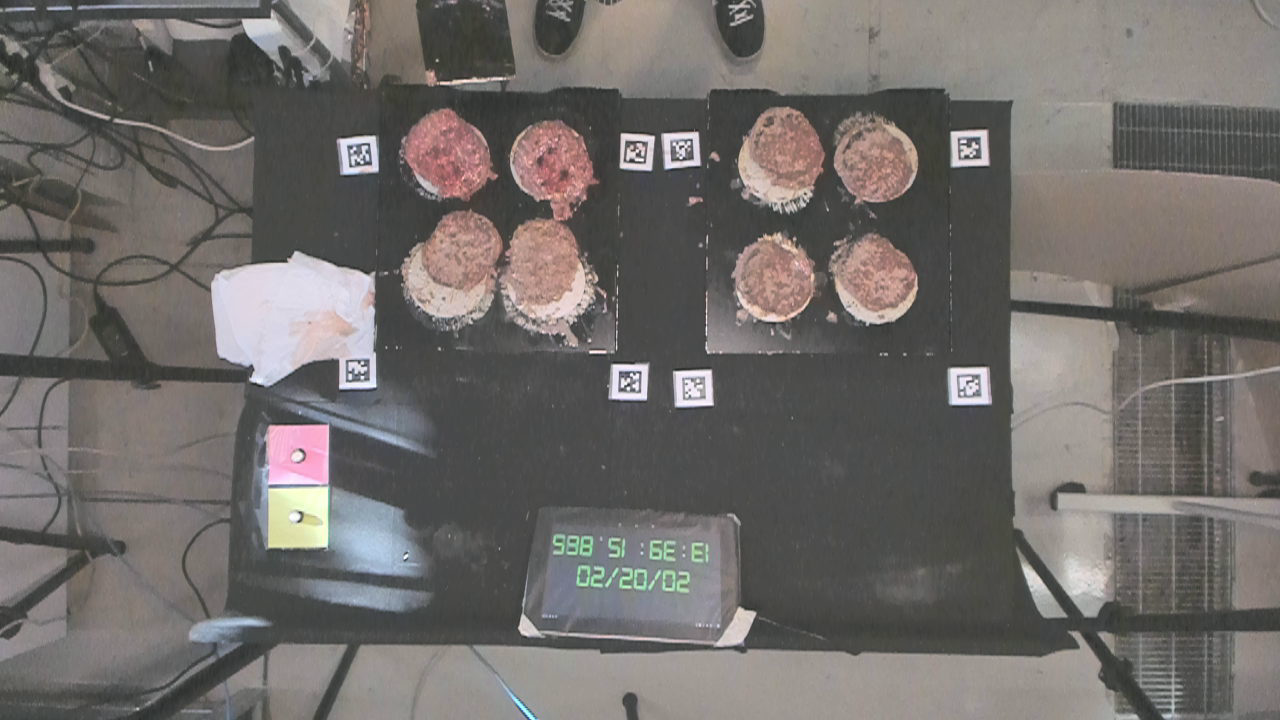hamburger: (400, 107, 494, 198), (726, 236, 819, 321), (509, 117, 596, 200), (505, 224, 589, 308), (420, 209, 501, 293), (839, 230, 920, 313), (750, 101, 825, 189), (830, 128, 912, 202)
marker: (265, 419, 332, 485)
